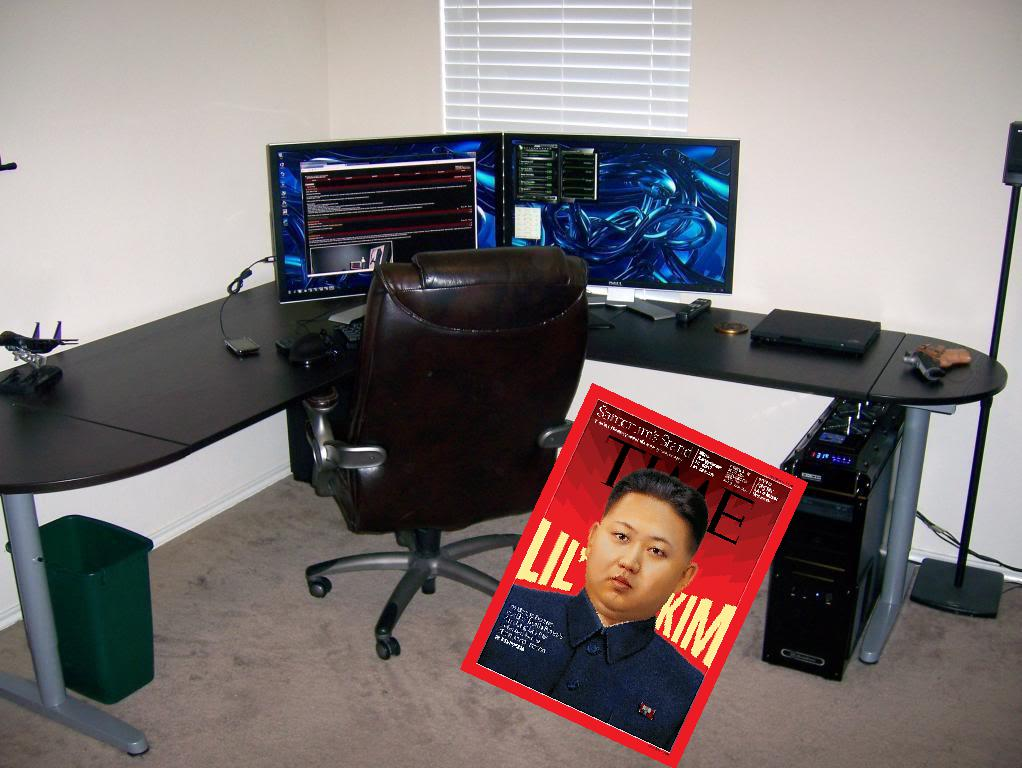times: (455, 383, 808, 768)
